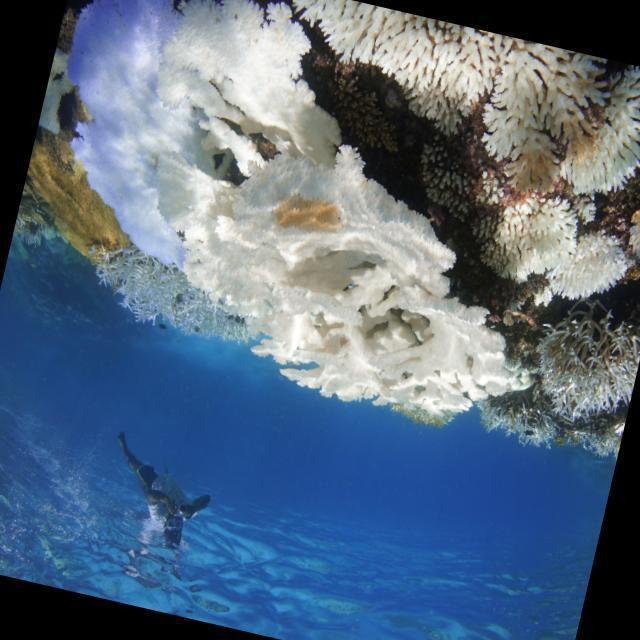Bleached Coral: (182, 149, 545, 431), (243, 0, 640, 231), (21, 0, 311, 287), (523, 290, 640, 435), (81, 261, 236, 345), (545, 212, 638, 311), (482, 186, 585, 264)
